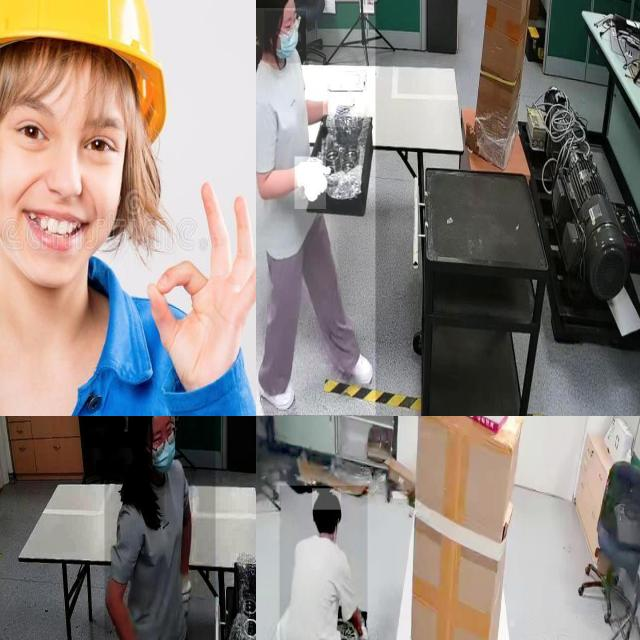No_Glasses: (0, 93, 132, 188)
face_mask: (140, 416, 182, 477), (264, 11, 306, 63)
hand_glove: (294, 156, 326, 210), (323, 96, 357, 127)
head_nohelmet: (312, 488, 342, 511), (256, 0, 295, 9)
person: (256, 0, 375, 416), (104, 416, 215, 640), (279, 485, 368, 640)
shoes: (256, 363, 296, 414), (333, 340, 377, 385)
